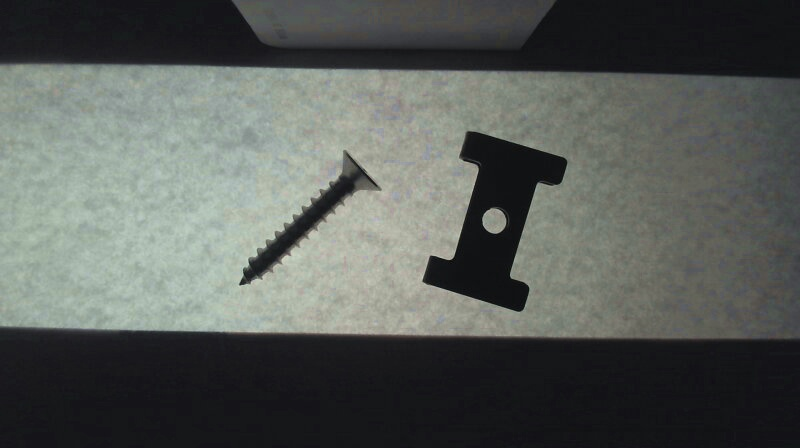O002: (424, 130, 570, 312)
S001: (238, 151, 382, 290)
